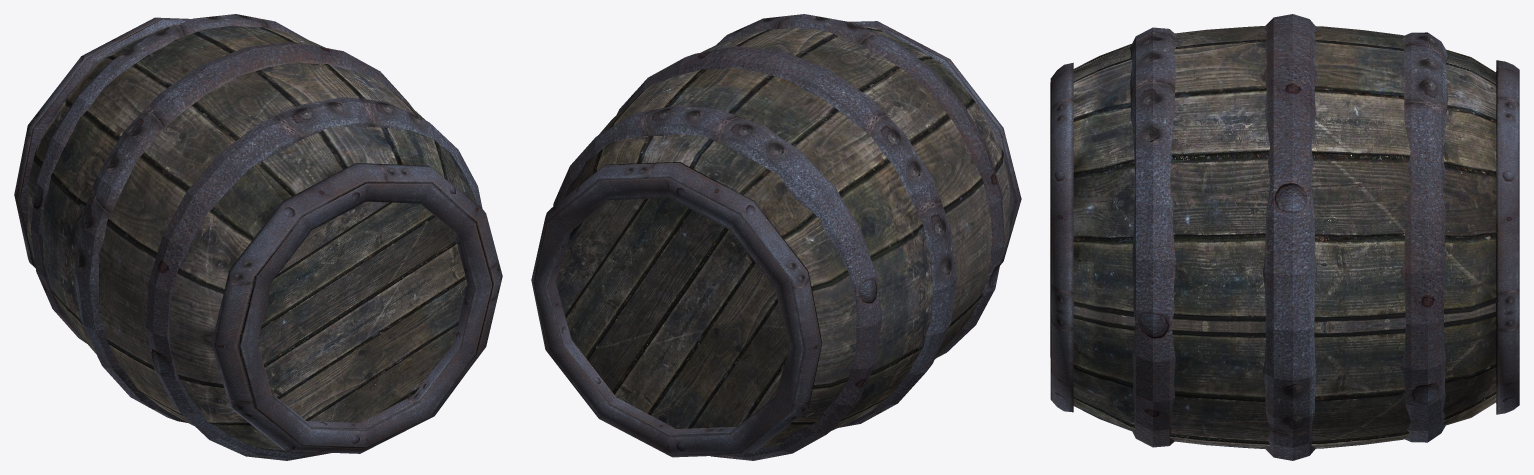
The model's file is nvwoodbarrel - rev2.obj.
The picture shows the model from 3 angles, left to right: view 1: azimuth 30°, elevation 25°; view 2: azimuth 150°, elevation 25°; view 3: azimuth 270°, elevation 25°; orthographic projection. The views are drawn at different scales.
Visible parts, largest first — view 1: Torus; view 2: Torus; view 3: Torus.
Boxes of the visible parts, x1,y1,x2,y2 form: Torus: [14, 14, 502, 460]; Torus: [531, 14, 1021, 460]; Torus: [1050, 14, 1519, 460].
Bounding box in the file's own units: 59.67 × 59.67 × 62.4.
1 material, 1 textured.
